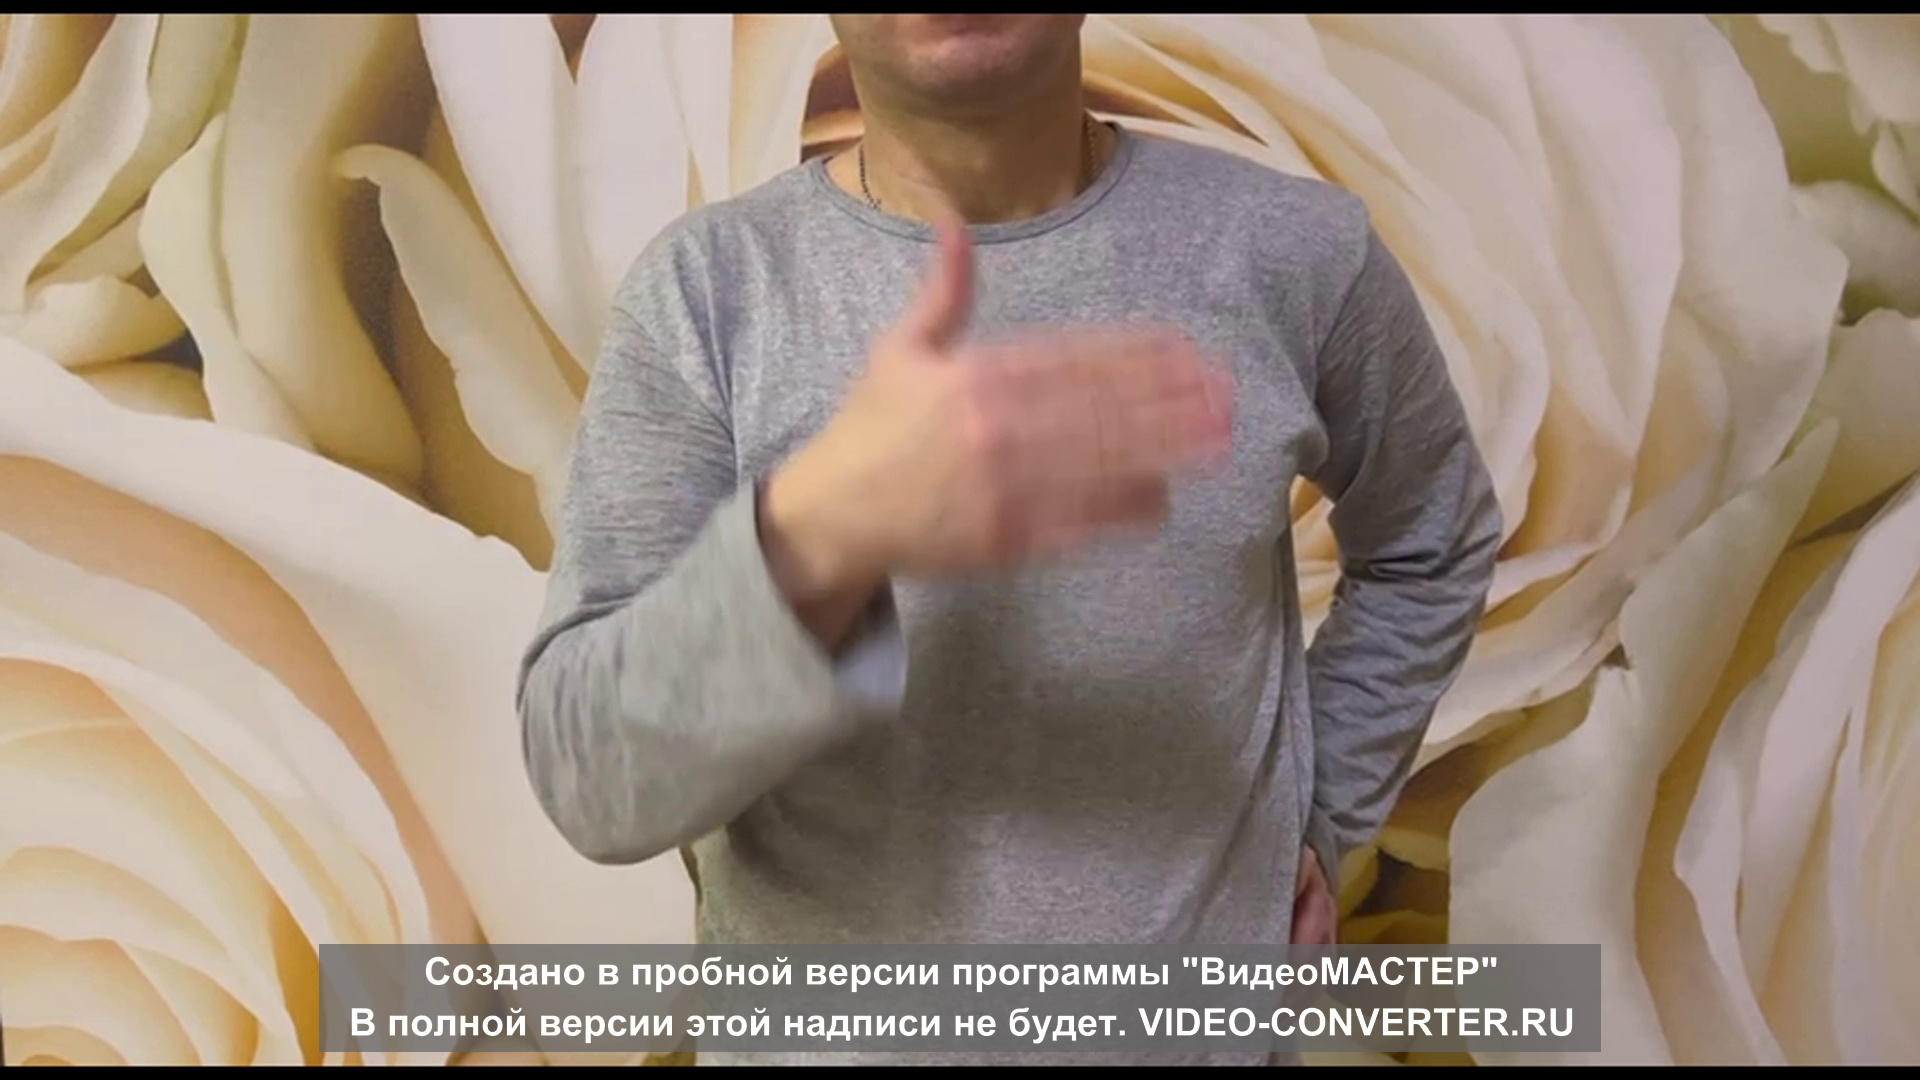Кисть: (848, 218, 1236, 571)
